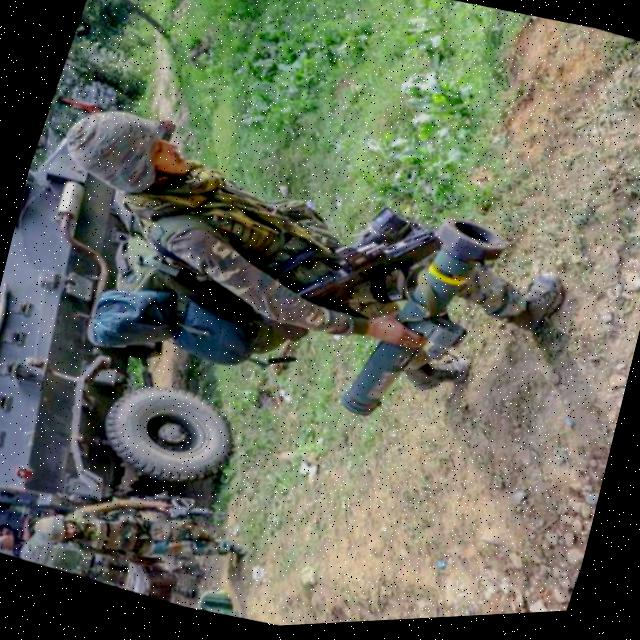rocket: (322, 197, 506, 448)
